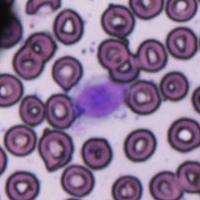L: (71, 76, 128, 120)
